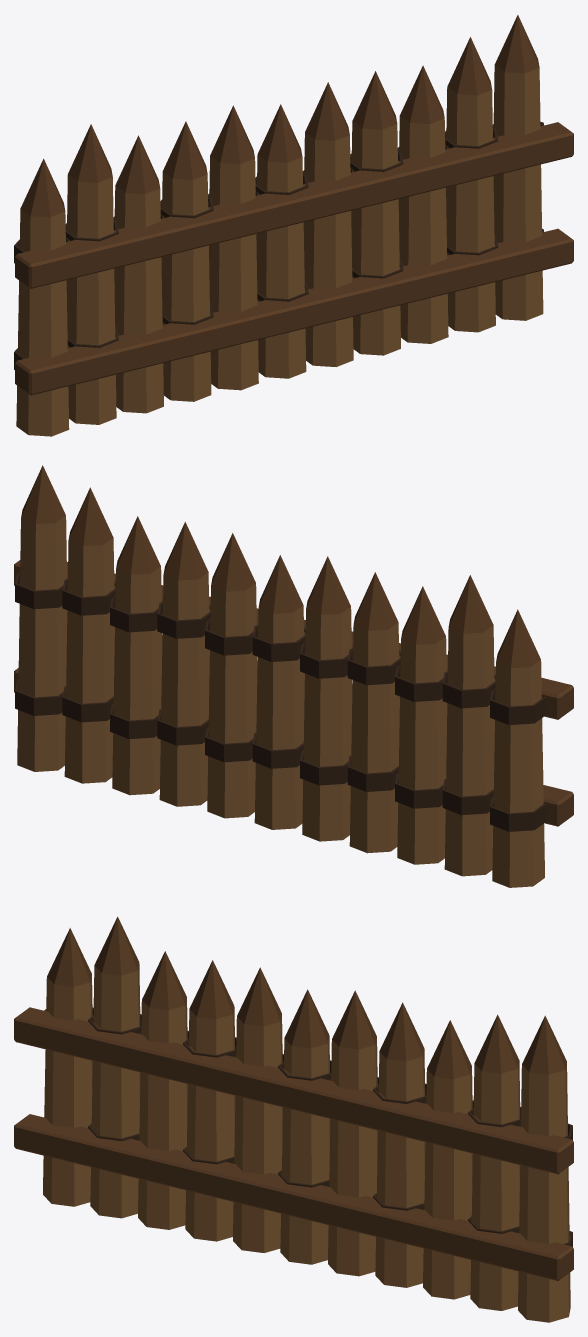
File: palisade.glb
3 renders of one model, top to bottom at view 1: azimuth 30°, elevation 25°; view 2: azimuth 150°, elevation 25°; view 3: azimuth 330°, elevation 25°, orthographic.
Visible parts, largest first — view 1: Timber; view 2: Timber; view 3: Timber.
Part boxes in pixels (x1,y1,x2,y2): Timber: (14,15,573,436); Timber: (14,465,573,887); Timber: (14,916,573,1322).
Bounding box in the file's own units: 3.91 × 2.02 × 0.4504.
